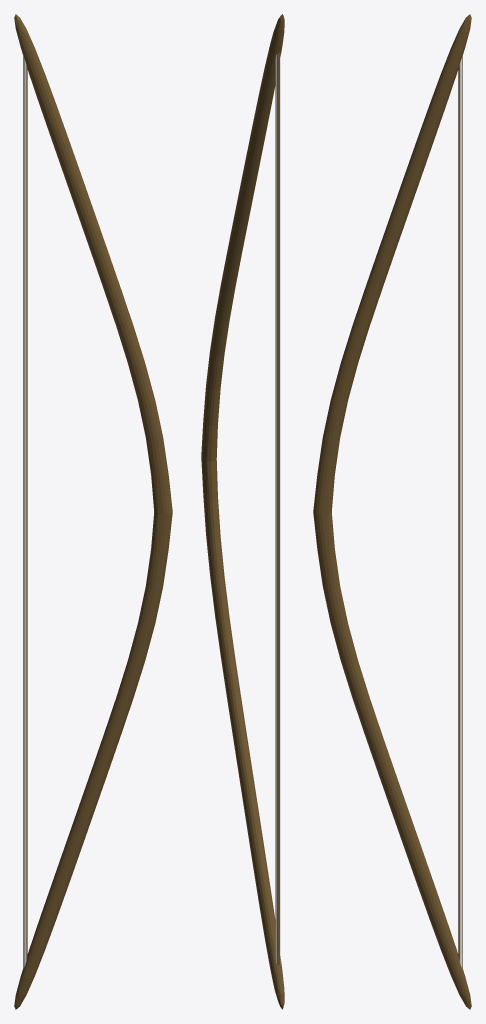
The model's file is hammer.obj.
3 views of the same model, side by side, from view 1: azimuth 90°, elevation 25°; view 2: azimuth 210°, elevation 25°; view 3: azimuth 270°, elevation 25° (orthographic).
Parts seen in each view (by area): view 1: Cube; view 2: Cube; view 3: Cube.
Boxes of the visible parts, box(x1,y1,x2,y2) form: Cube: box(14, 14, 172, 1009); Cube: box(201, 14, 284, 1009); Cube: box(313, 14, 471, 1009).
Size of the model in its own units: 0.1043 by 8.47 by 1.22.
Materials: 1 (1 with a texture image).
